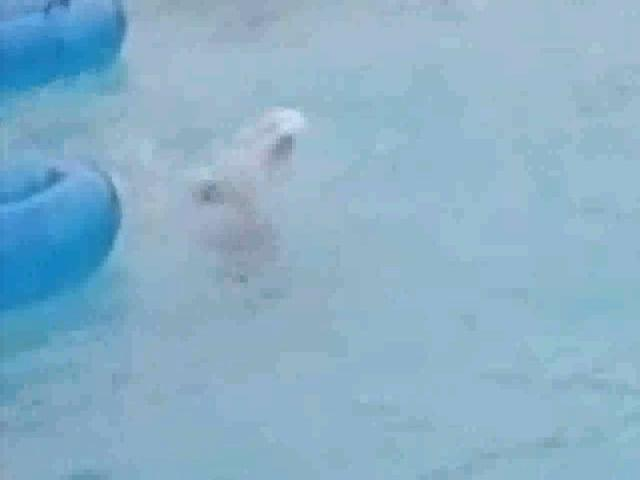drowning: (154, 106, 332, 324)
